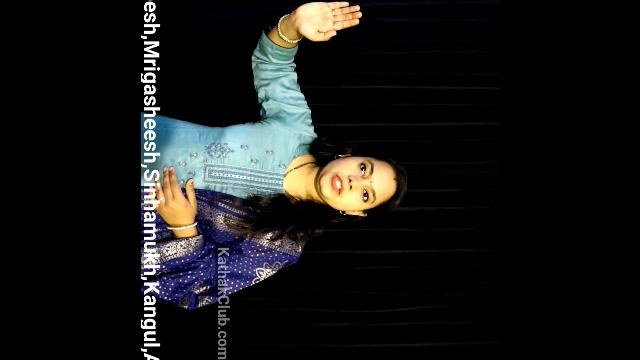sarpsheesh: (279, 0, 380, 48)
